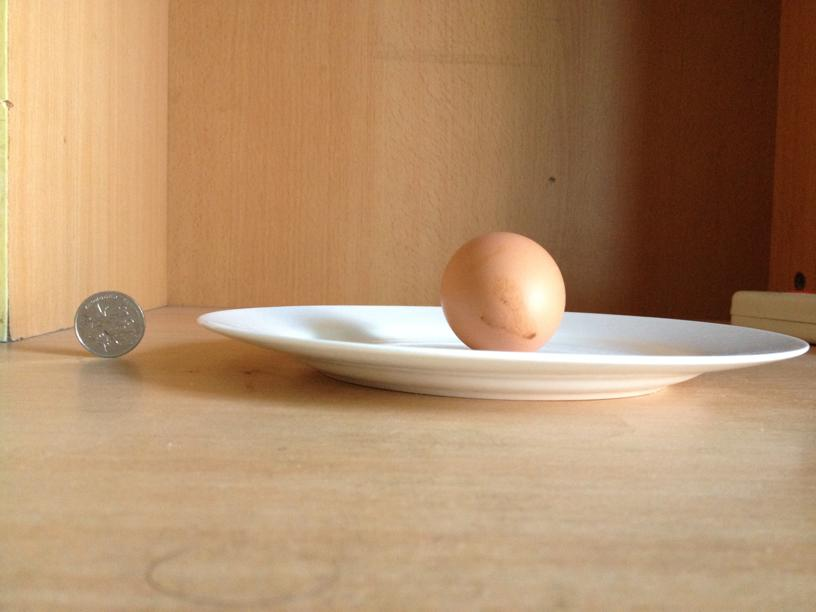coin: (70, 288, 145, 358)
egg: (437, 230, 565, 351)
